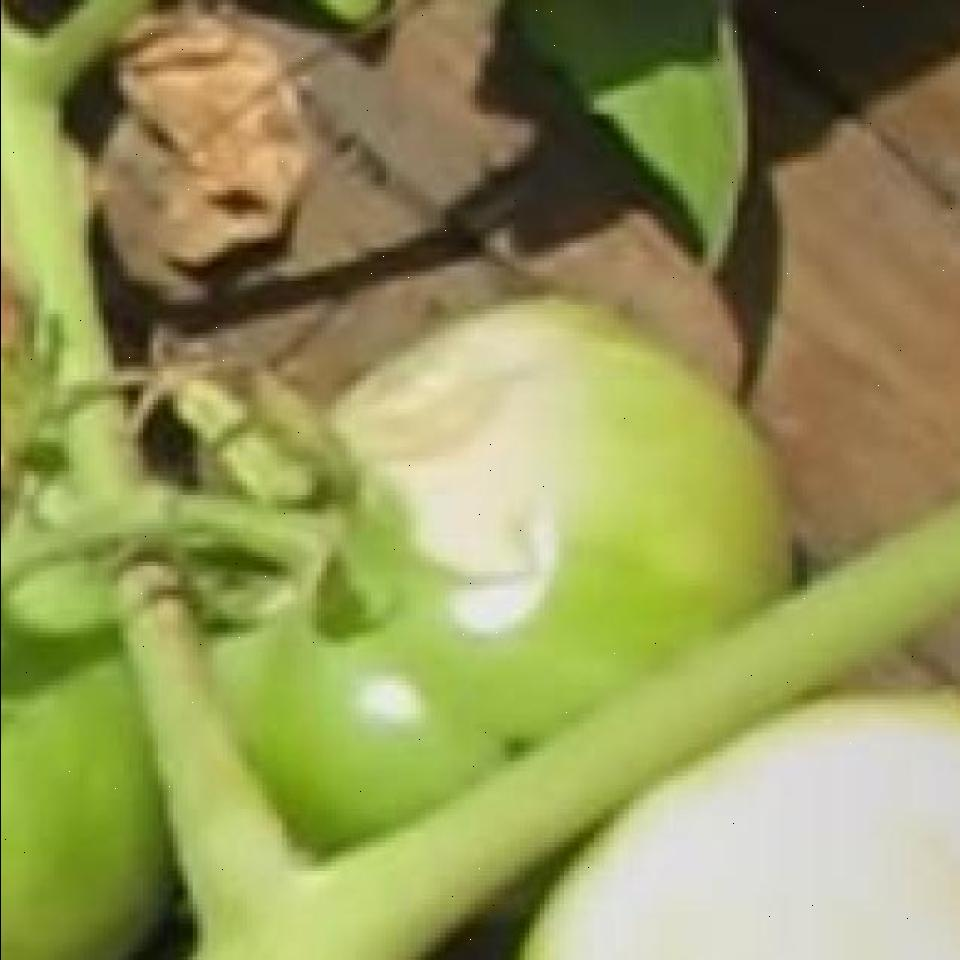Sunscald: (320, 298, 563, 636)
